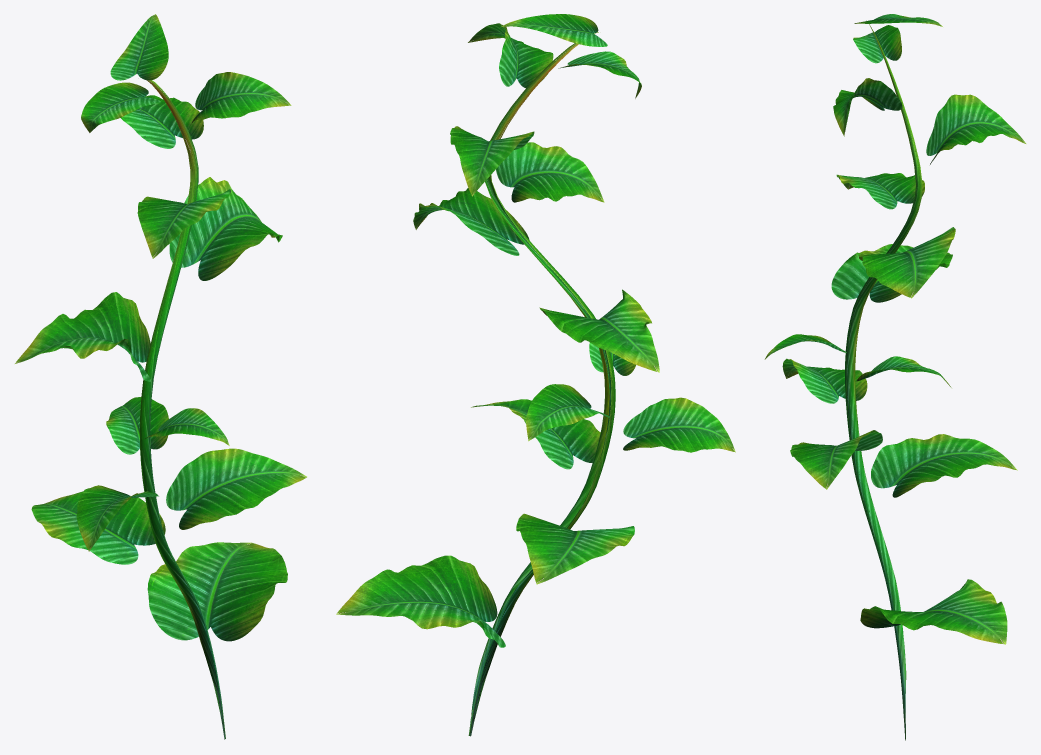
The model's file is Plant2.fbx.
The picture shows the model from 3 angles, left to right: view 1: azimuth 30°, elevation 25°; view 2: azimuth 150°, elevation 25°; view 3: azimuth 270°, elevation 25°; orthographic projection. The views are drawn at different scales.
Parts seen in each view (by area): view 1: Object60; view 2: Object60; view 3: Object60.
Part boxes in pixels (<box>): Object60: <box>15,14,306,739</box>; Object60: <box>336,14,735,736</box>; Object60: <box>764,14,1026,740</box>.
Size of the model in its own units: 18.96 by 47.21 by 16.24.
